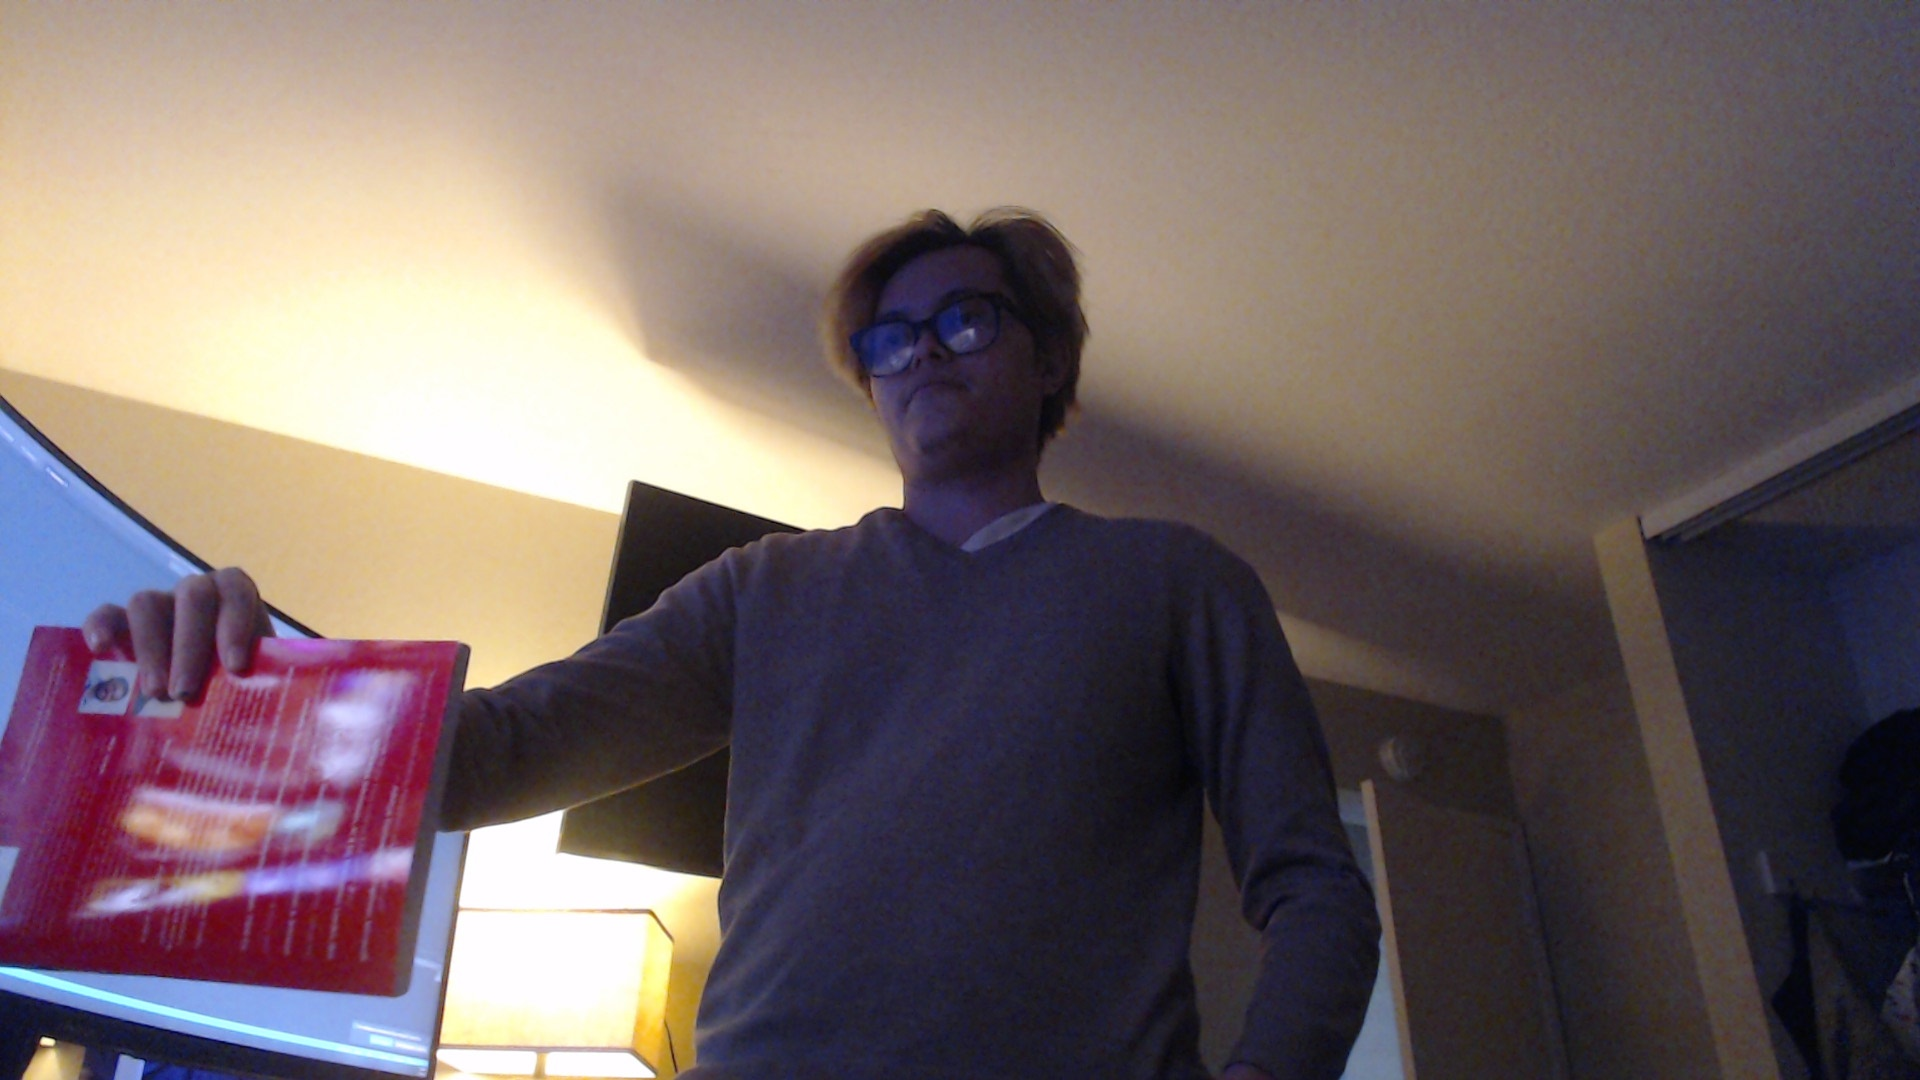book: (1, 626, 469, 1000)
